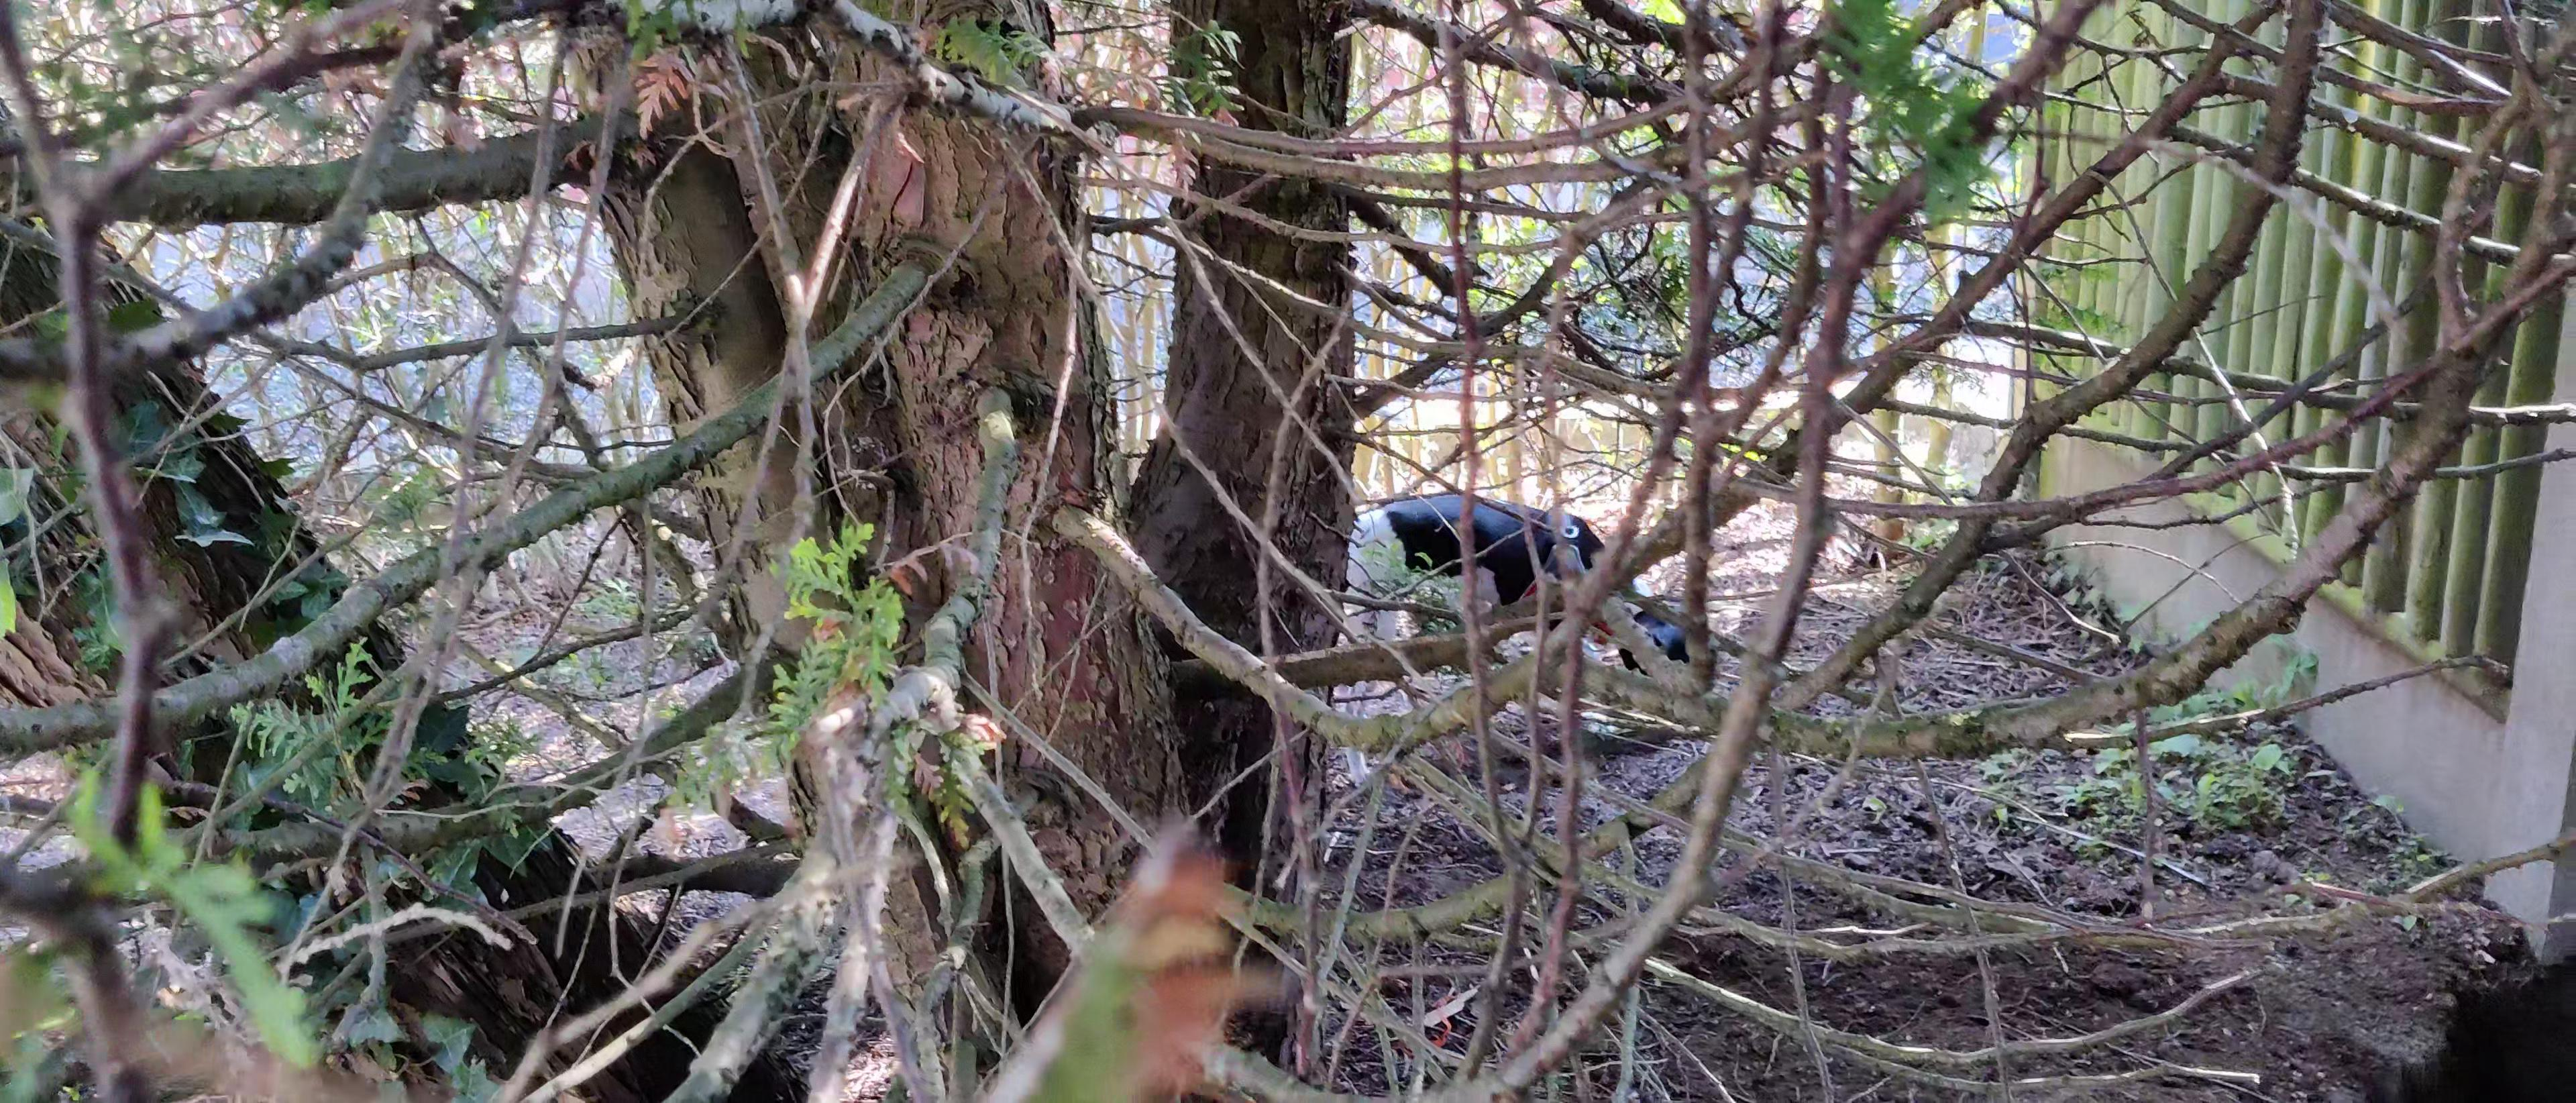Dog: (1324, 480, 1730, 809)
